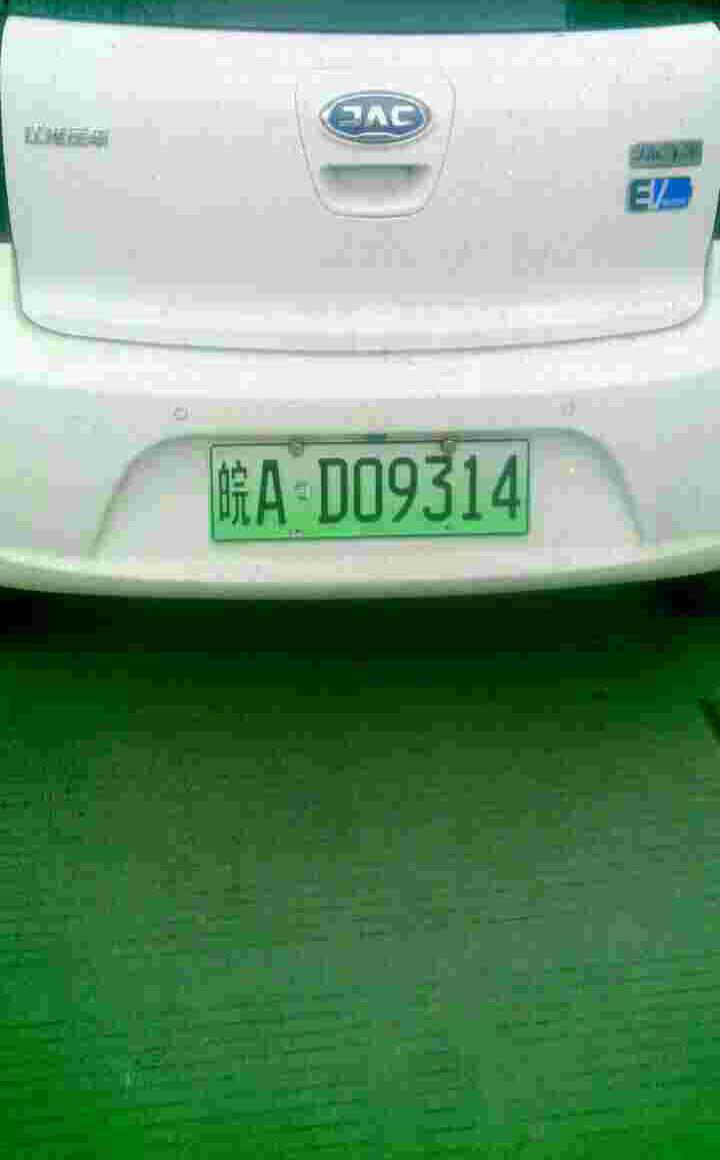car_id: (210, 439, 529, 538)
